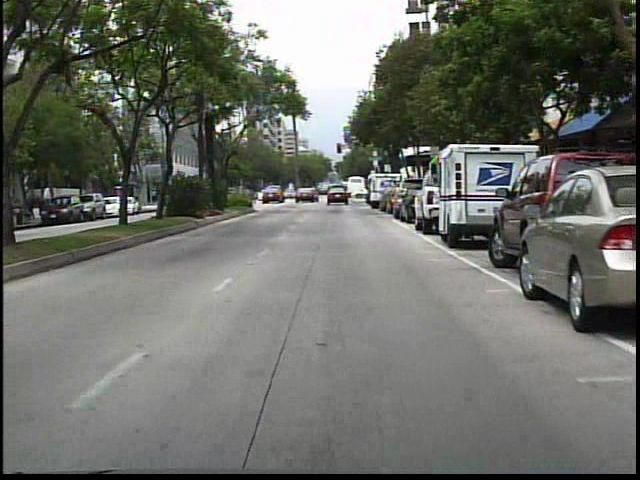person: (323, 183, 336, 203)
